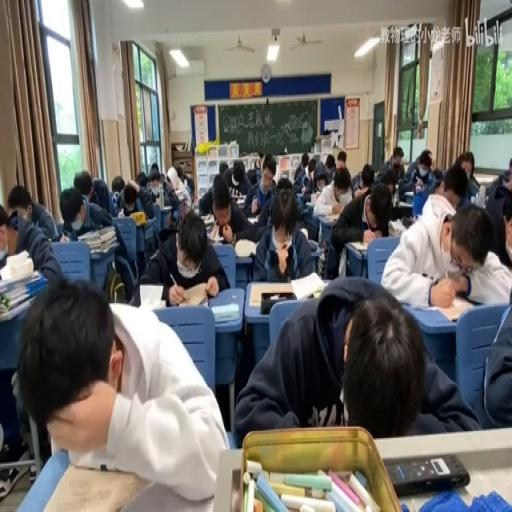calculator: (426, 293, 476, 321), (246, 282, 292, 308), (290, 268, 326, 298), (175, 279, 208, 307), (138, 283, 166, 309), (210, 300, 238, 322), (234, 236, 256, 256), (387, 218, 405, 234), (347, 240, 369, 252), (207, 222, 220, 242), (320, 212, 339, 222), (404, 189, 414, 205), (201, 213, 214, 225), (173, 188, 186, 200), (149, 184, 160, 196), (233, 195, 246, 205), (298, 226, 308, 239), (246, 216, 260, 225), (58, 233, 69, 243), (306, 199, 315, 208), (159, 204, 172, 210)
paper: (18, 273, 224, 508), (234, 273, 476, 442), (381, 192, 508, 310), (135, 209, 227, 306), (58, 183, 132, 303), (3, 184, 64, 290), (473, 271, 512, 429), (253, 186, 316, 280), (330, 179, 387, 273), (198, 171, 260, 243), (401, 148, 436, 200), (162, 165, 190, 225), (117, 176, 152, 222), (451, 151, 480, 199), (485, 158, 512, 205), (376, 147, 405, 189), (72, 169, 94, 199), (499, 206, 512, 253), (293, 152, 309, 185), (334, 175, 350, 200), (146, 162, 162, 186), (313, 161, 326, 189), (323, 154, 336, 179), (361, 165, 374, 188), (348, 171, 362, 192), (111, 174, 125, 194), (6, 206, 18, 228), (231, 165, 243, 186), (336, 151, 347, 172), (110, 189, 120, 212), (246, 166, 258, 185), (276, 175, 292, 189), (382, 181, 394, 196), (218, 161, 229, 176), (136, 170, 146, 186), (174, 165, 184, 181), (434, 179, 443, 195), (432, 168, 442, 182), (253, 156, 260, 170), (508, 155, 512, 172), (158, 174, 163, 184)
person: (384, 452, 470, 494), (402, 213, 415, 226), (307, 239, 319, 250)
